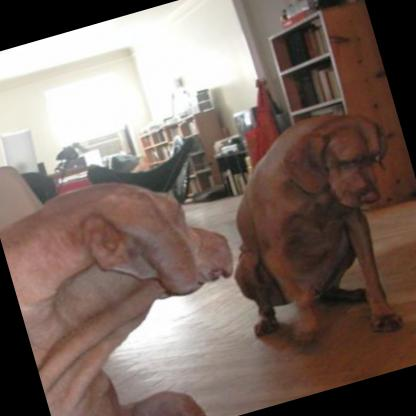vizsla: (0, 138, 286, 416), (197, 96, 416, 371)
